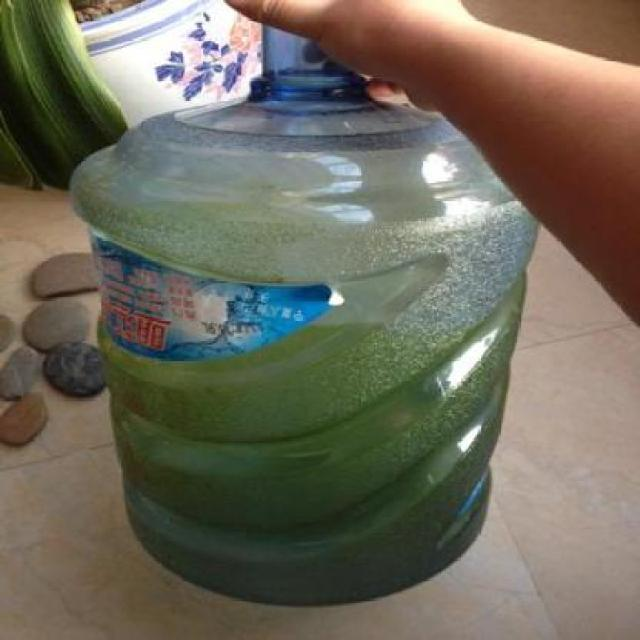coolerbottle: (64, 0, 543, 615)
